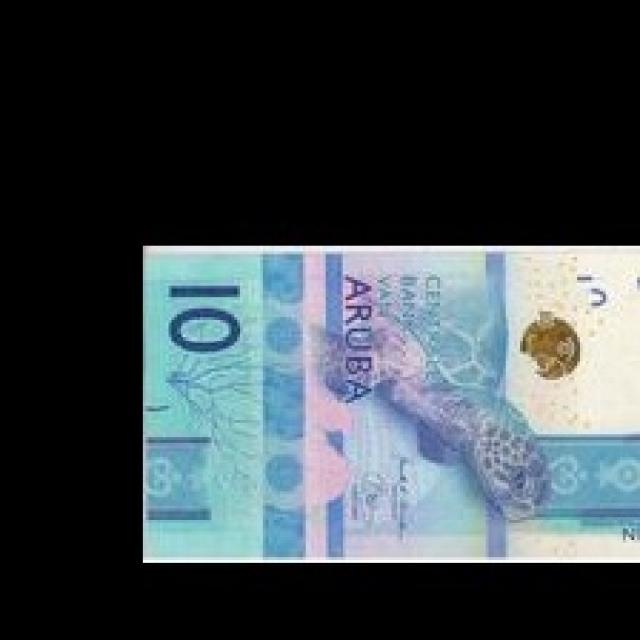banknote: (140, 243, 637, 563)
